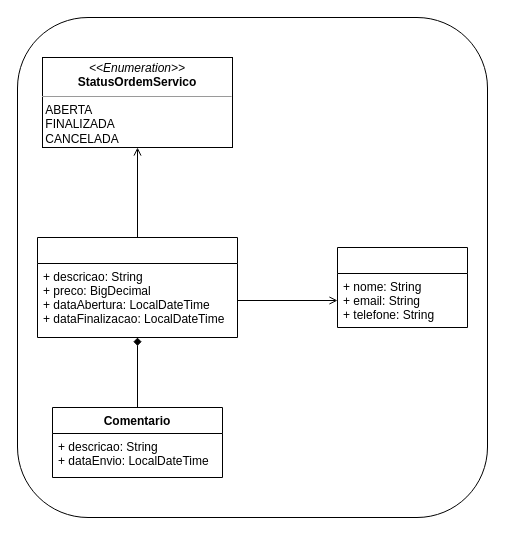
Some shapes in this 505 by 535 pixel diagram are drawn without their labels. The box of each missing label's shape, as (x1, y1, x2, y2) in pixels:
Cliente: (336, 246, 468, 328)
OrdemServico: (36, 236, 238, 338)
